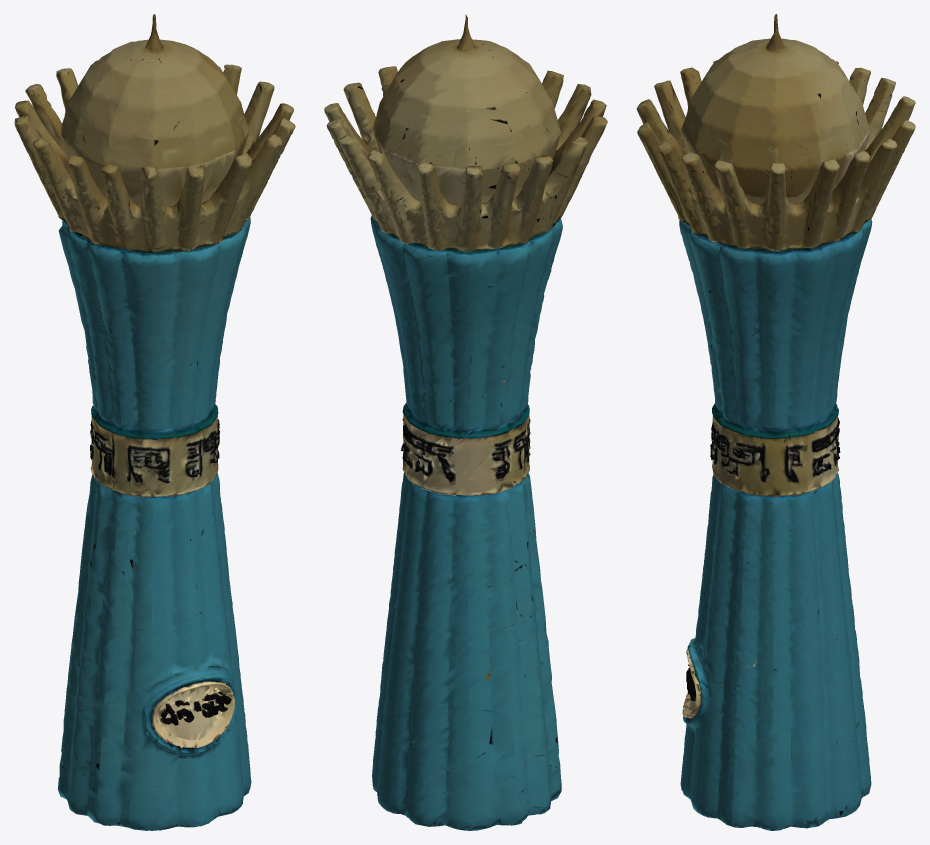
File: astana.glb
The picture shows the model from 3 angles, left to right: view 1: azimuth 30°, elevation 25°; view 2: azimuth 150°, elevation 25°; view 3: azimuth 270°, elevation 25°; orthographic projection.
Parts seen in each view (by area): view 1: tmpvnthml4pobj; view 2: tmpvnthml4pobj; view 3: tmpvnthml4pobj.
Boxes of the visible parts, x1,y1,x2,y2 form: tmpvnthml4pobj: [14, 14, 295, 830]; tmpvnthml4pobj: [324, 14, 607, 830]; tmpvnthml4pobj: [636, 14, 915, 830].
Size of the model in its own units: 0.3234 by 1 by 0.3244.
1 material, 1 textured.
